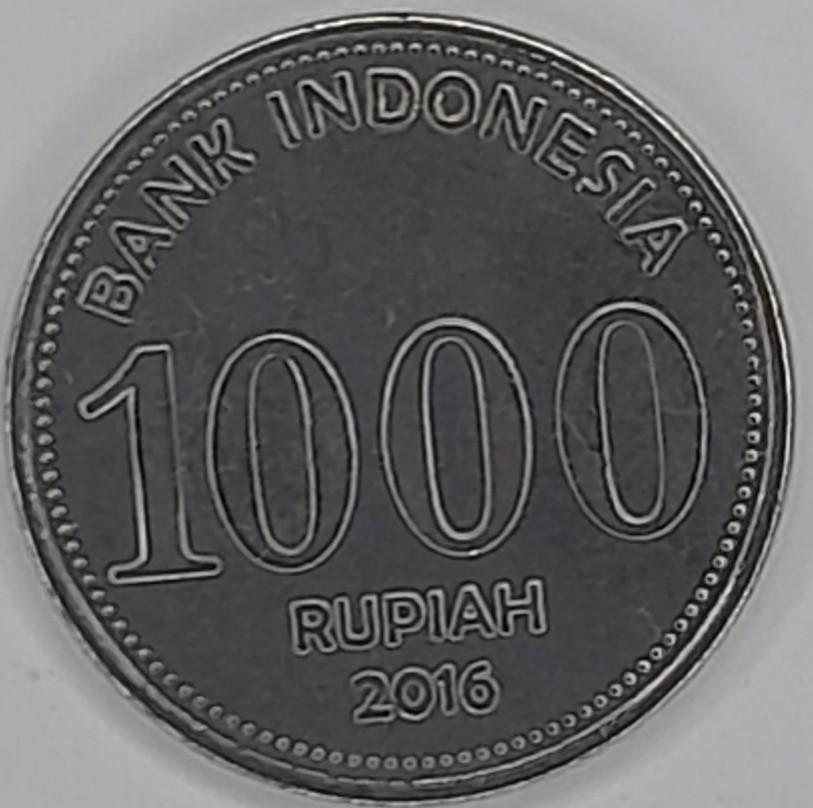coin_1000_e2016: (14, 16, 802, 808)
